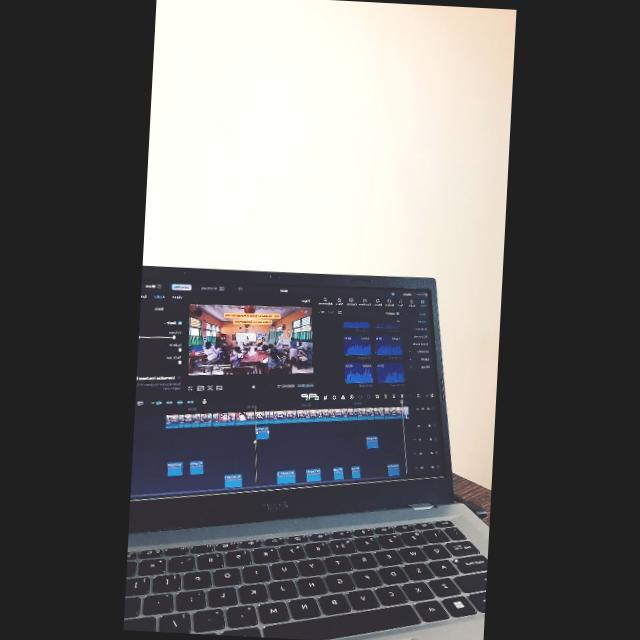laptop: (123, 253, 448, 640)
